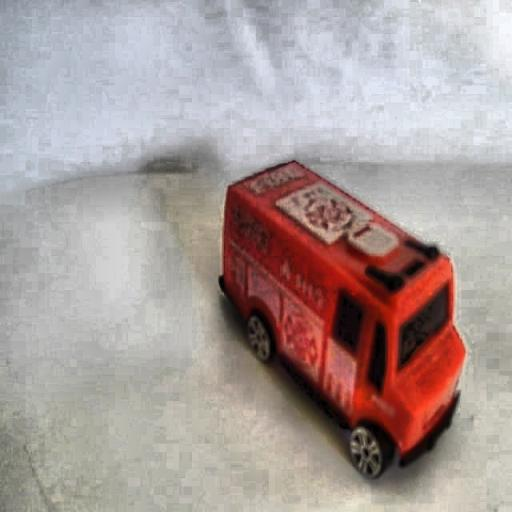fire_truck: (218, 158, 464, 479)
